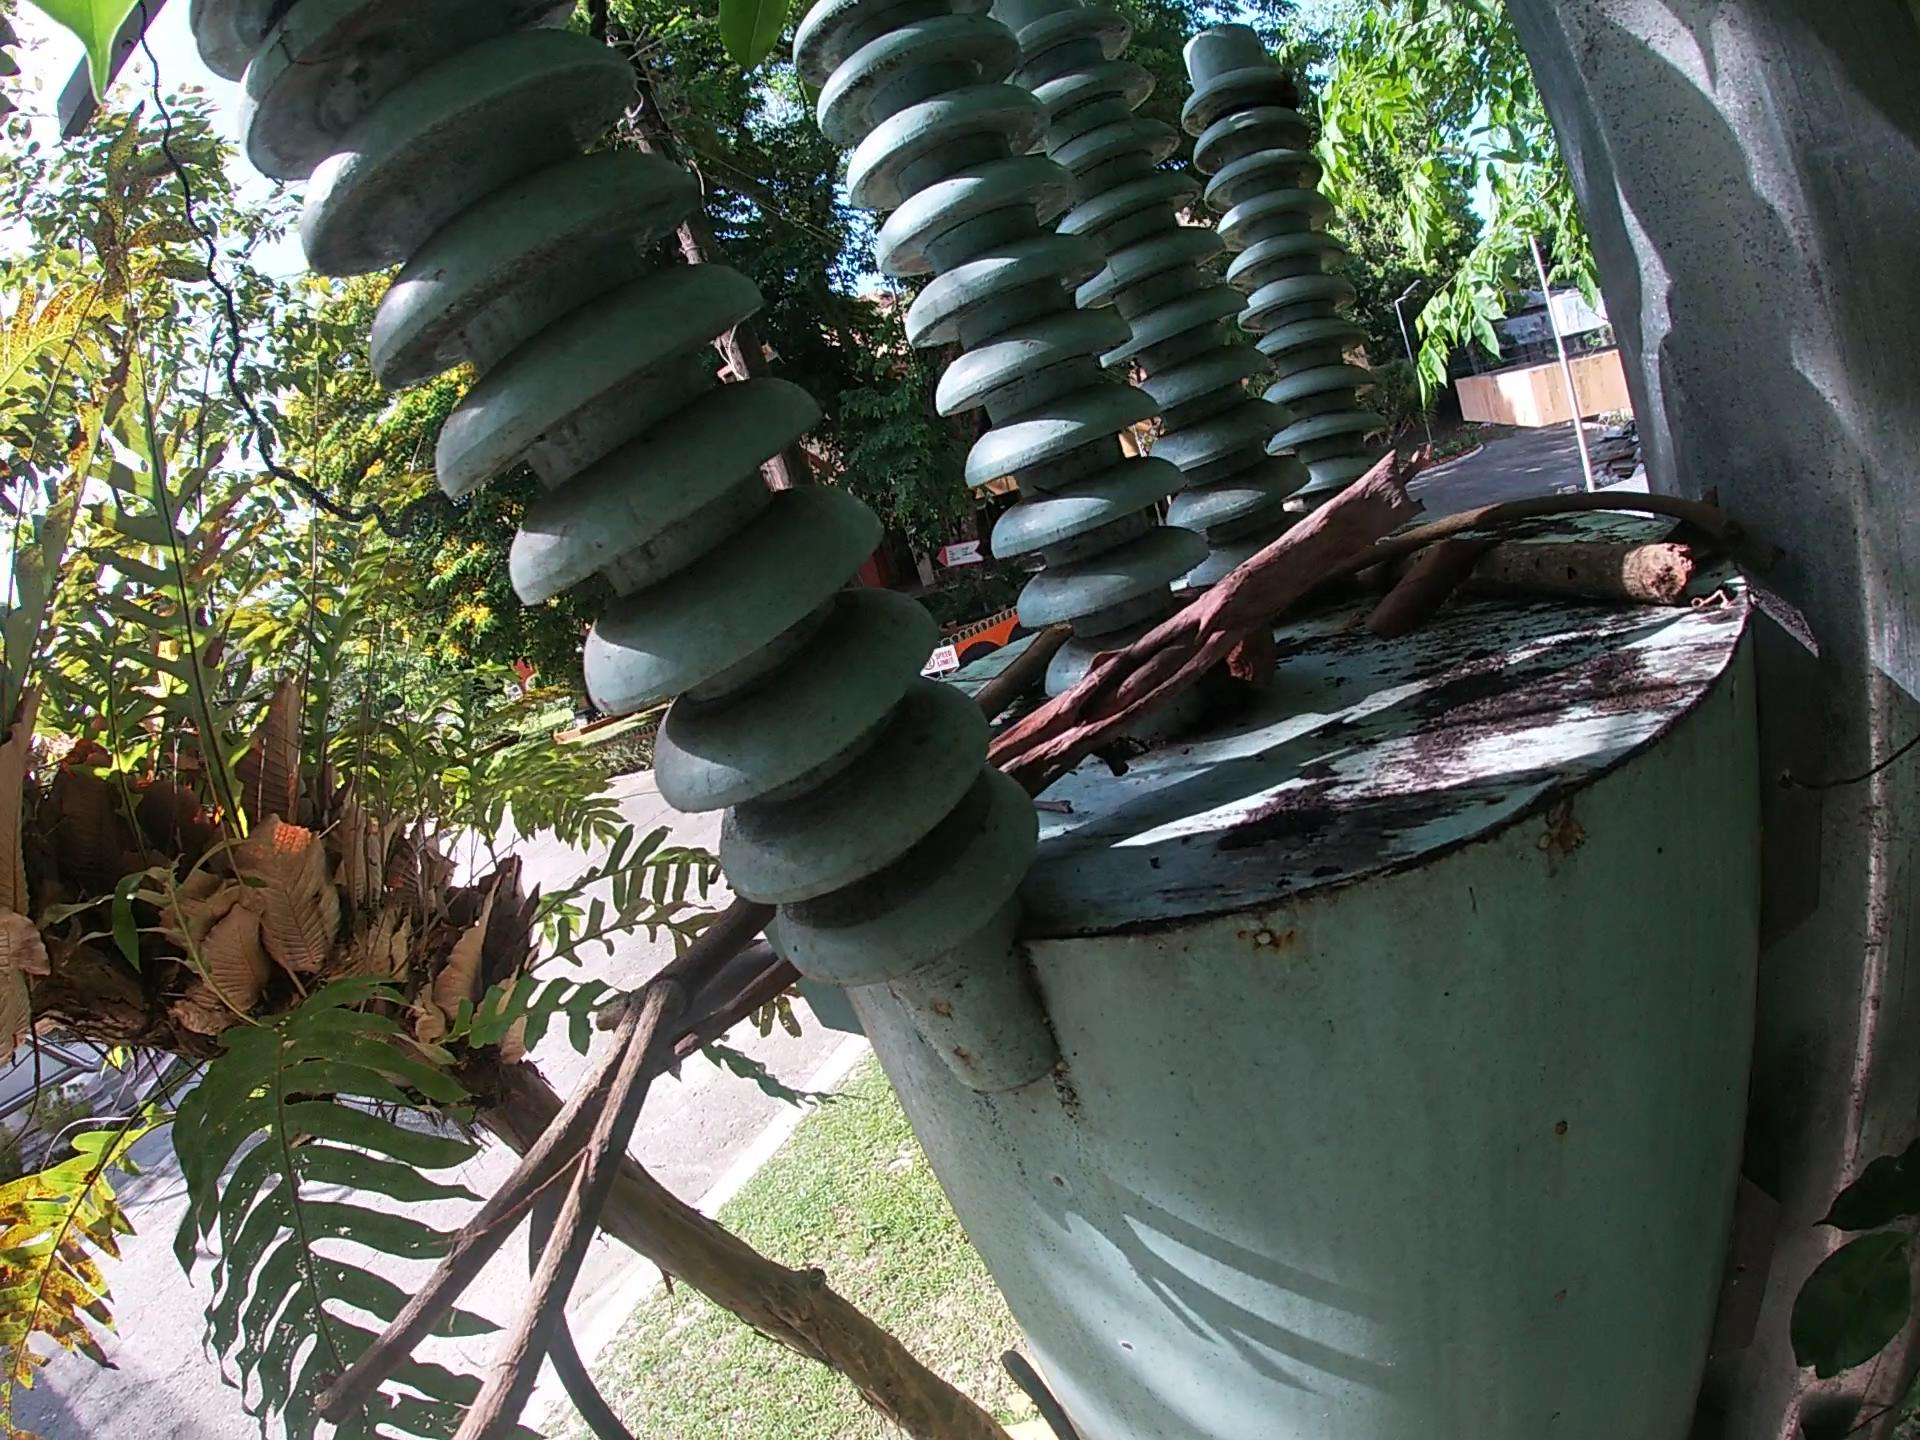leaf: (1355, 526, 1504, 647)
tree branch: (305, 889, 779, 1440), (980, 442, 1432, 796), (1352, 486, 1793, 579), (1347, 520, 1699, 604), (652, 947, 804, 1075), (968, 622, 1073, 731)
